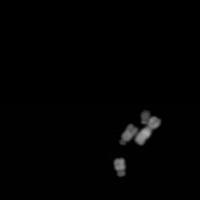chromosome: (135, 117, 162, 147), (118, 123, 135, 147), (113, 158, 126, 178), (140, 110, 150, 125)
